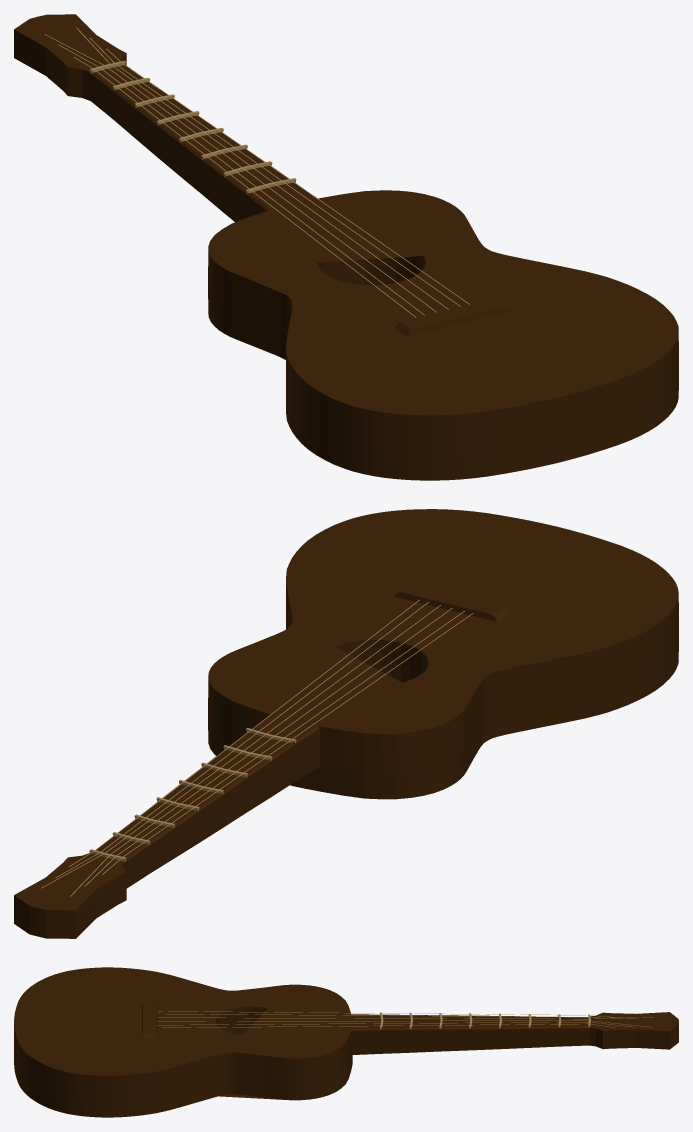
File: Violao.fbx
3 views of the same model, one above another, from view 1: azimuth 30°, elevation 25°; view 2: azimuth 150°, elevation 25°; view 3: azimuth 270°, elevation 25° (orthographic). The views are drawn at different scales.
Parts seen in each view (by area): view 1: Violão; view 2: Violão; view 3: Violão.
Boxes of the visible parts, <box> form: Violão: <box>14,14,678,480</box>; Violão: <box>14,509,678,938</box>; Violão: <box>14,967,678,1117</box>.
Bounding box in the file's own units: 40.83 × 7.93 × 106.
